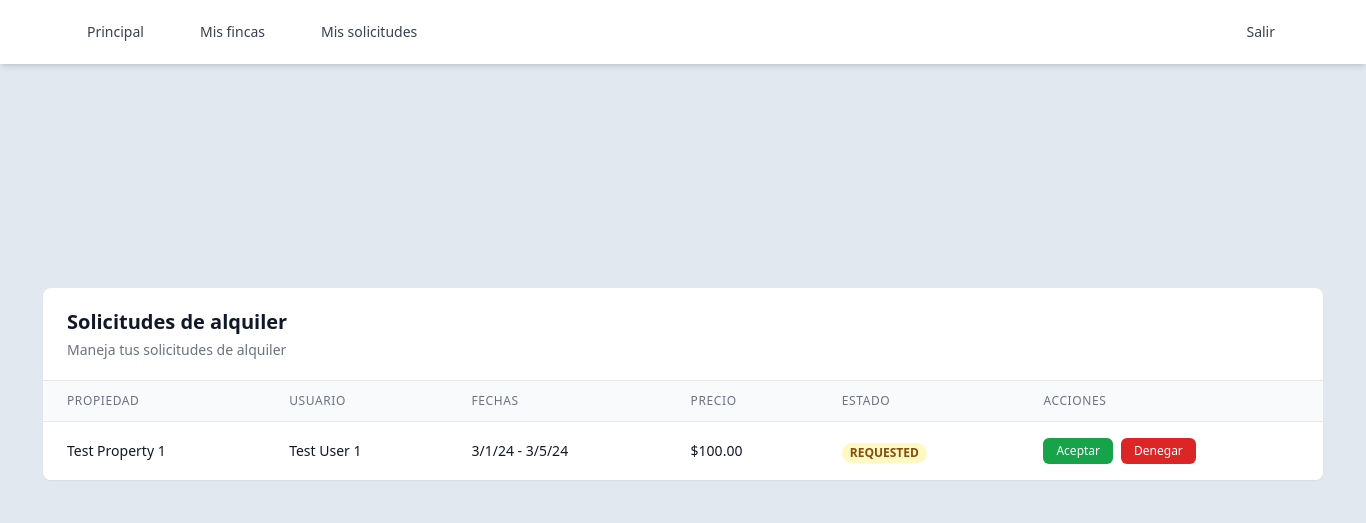
Scenario: Owner Requests Page › Error Handling › should display error message when accept action fails
The image size is (1366, 523).
Click the button with test id "accept-button-1": (1078, 451) left=1043, top=438, right=1113, bottom=464
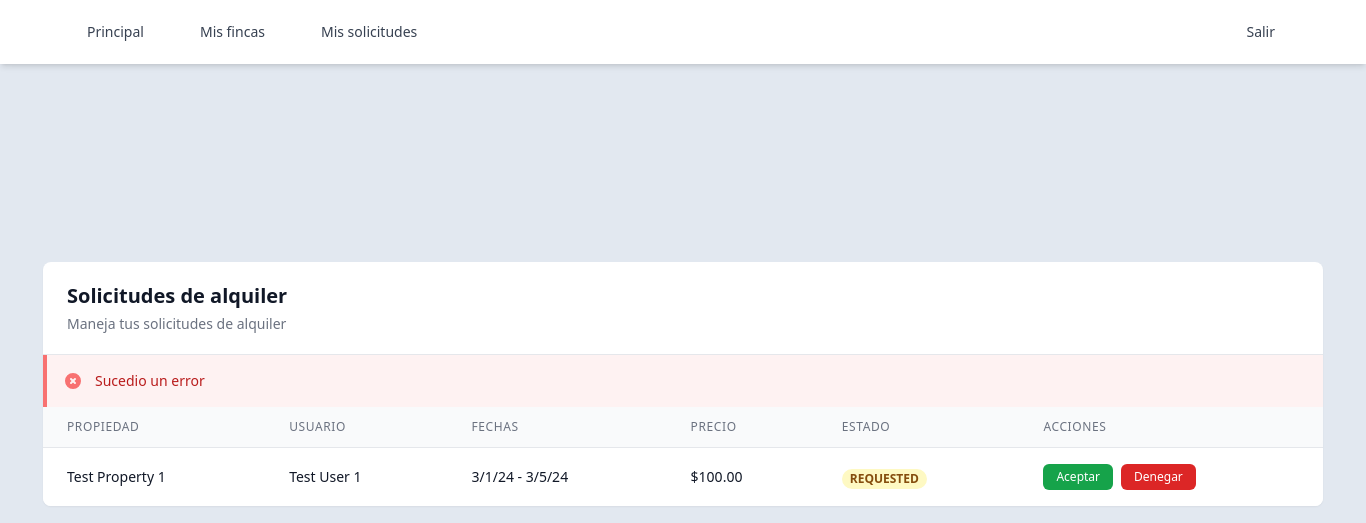
Expected: the element with test id "error-message" is shown, left=43, top=355, right=1323, bottom=407
